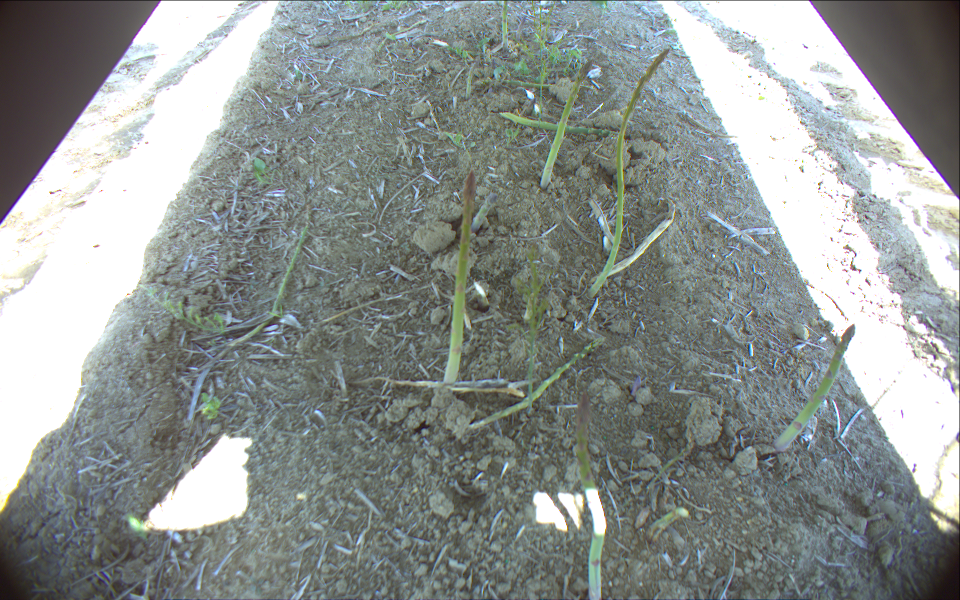aspa: (582, 47, 671, 300), (771, 321, 856, 452), (438, 170, 482, 389), (572, 392, 608, 600), (537, 58, 592, 191), (494, 1, 513, 50)
